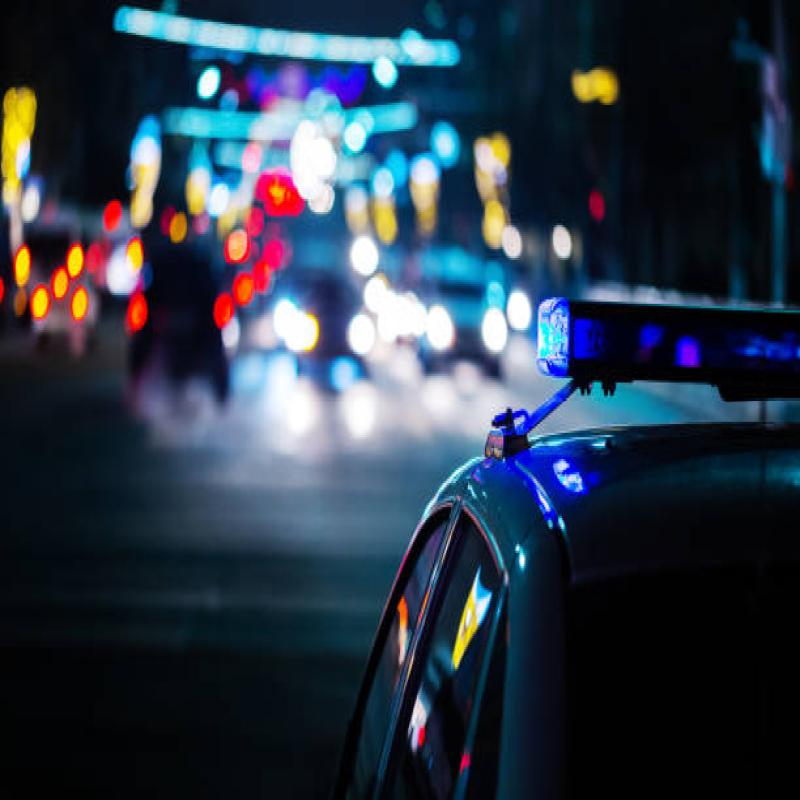AmbulanceSiren: (524, 258, 800, 446)
